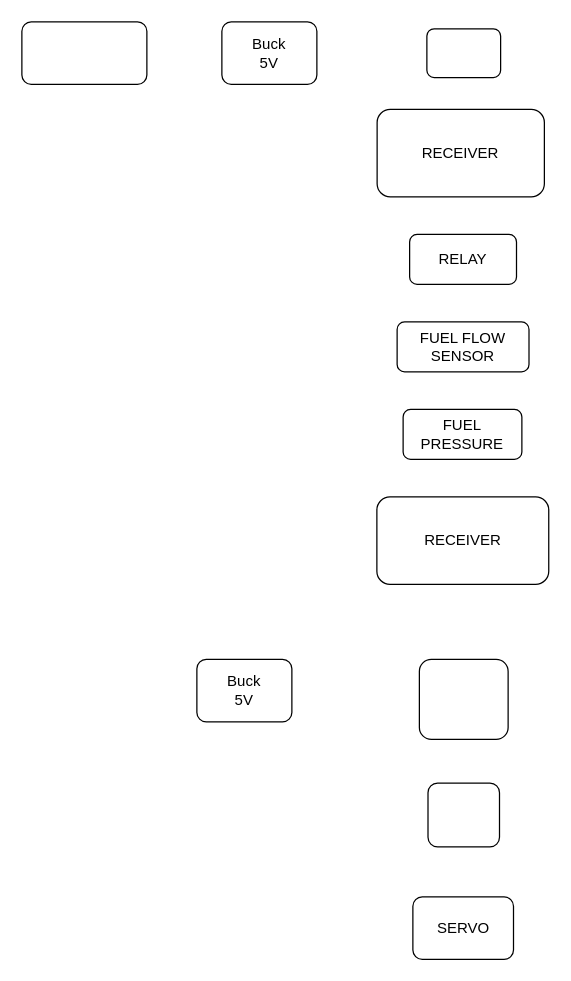
Some shapes in this 571 by 981 pixel diagram are drawn without their labels. Here are the shapes that lost their labels. From the top down, the box of each, then its label:
(21, 21, 147, 84): Battery
(426, 28, 501, 78): LED
(418, 658, 508, 739): STM32
(427, 782, 499, 847): LORA
